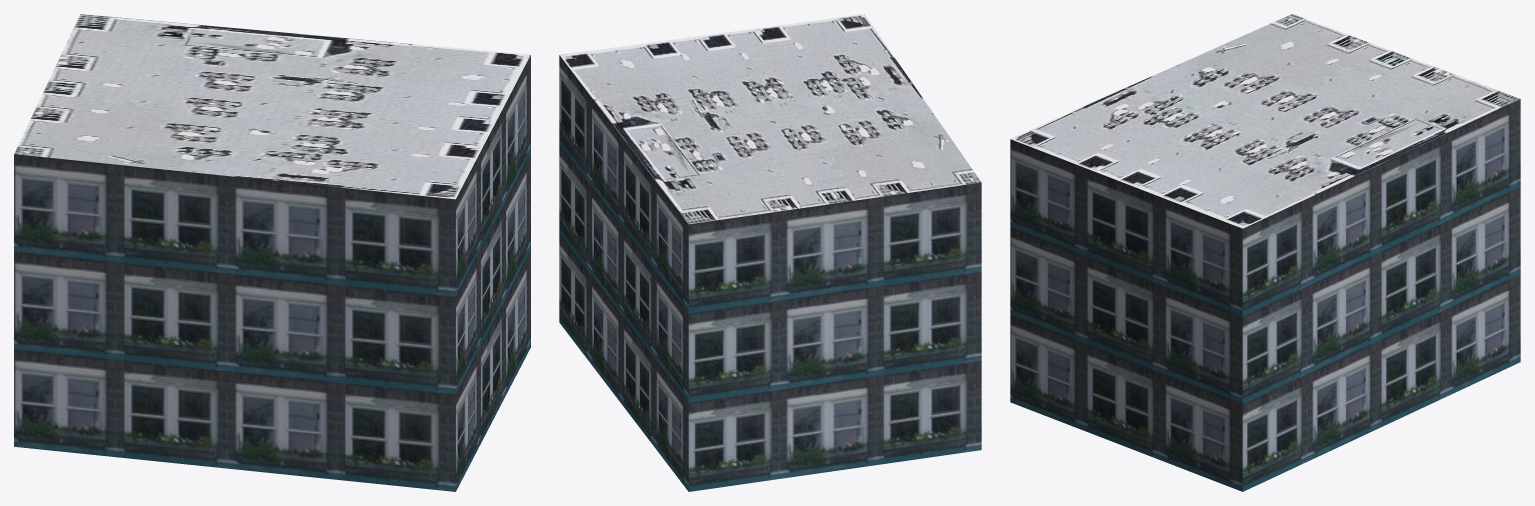
File: ResTex__1869.fbx
3 views of the same model, side by side, from view 1: azimuth 30°, elevation 25°; view 2: azimuth 150°, elevation 25°; view 3: azimuth 270°, elevation 25° (orthographic). The views are drawn at different scales.
Visible parts, largest first — view 1: CityEngineMaterial_11_m, CityEngineMaterial_m; view 2: CityEngineMaterial_11_m, CityEngineMaterial_m; view 3: CityEngineMaterial_11_m, CityEngineMaterial_m.
Boxes of the visible parts, x1,y1,x2,y2 form: CityEngineMaterial_11_m: (14,55,530,491); CityEngineMaterial_m: (14,14,530,199); CityEngineMaterial_11_m: (559,55,981,491); CityEngineMaterial_m: (559,14,981,224); CityEngineMaterial_11_m: (1010,99,1520,491); CityEngineMaterial_m: (1010,14,1520,228).
Bounding box in the file's own units: 15.75 × 9 × 15.82.
Materials: 2 (2 with a texture image).
